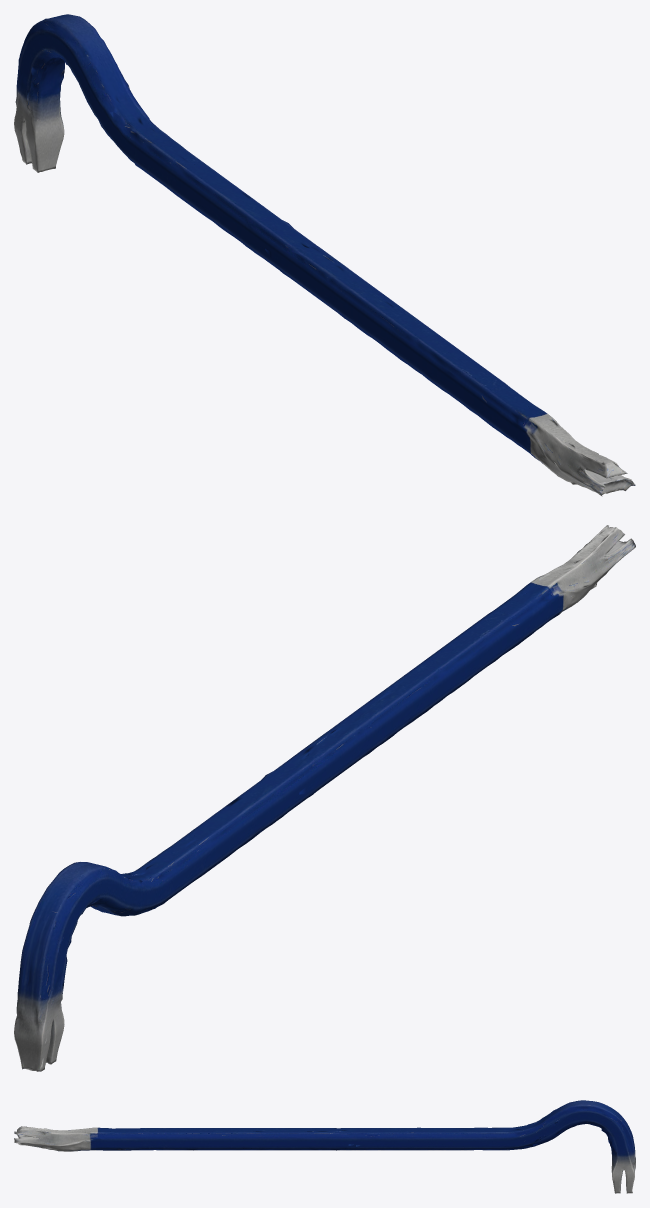
File: weapon-crowbar.glb
3 views of the same model, one above another, from view 1: azimuth 30°, elevation 25°; view 2: azimuth 150°, elevation 25°; view 3: azimuth 270°, elevation 25° (orthographic). The views are drawn at different scales.
Parts seen in each view (by area): view 1: crowbar; view 2: crowbar; view 3: crowbar.
Boxes of the visible parts, left/top/right/bottom form: crowbar: left=14, top=14, right=635, bottom=496; crowbar: left=14, top=525, right=635, bottom=1071; crowbar: left=14, top=1100, right=635, bottom=1193.
Bounding box in the file's own units: 0.0259 × 0.1193 × 0.76.
Materials: 1 (1 with a texture image).
